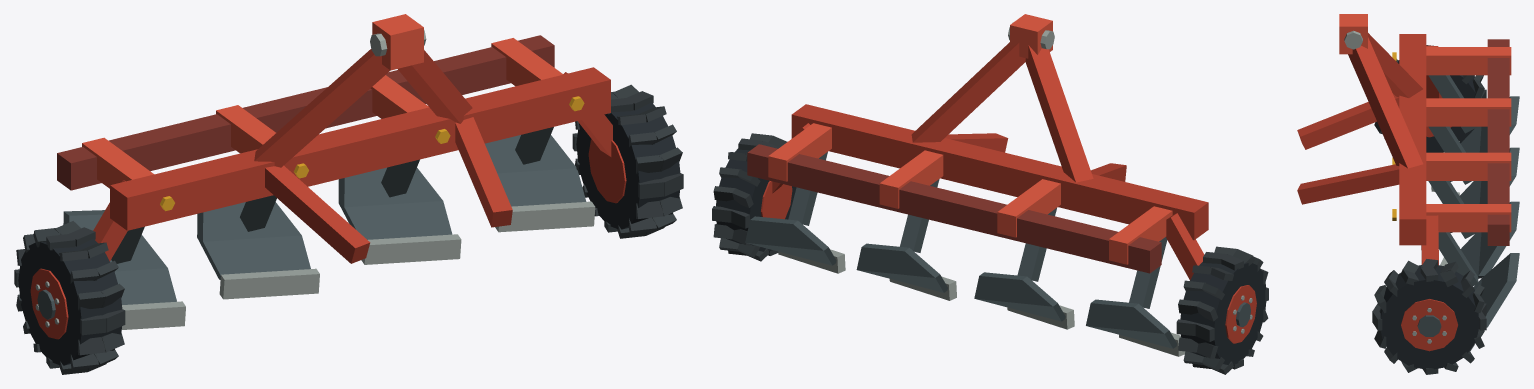
The model's file is plow.glb.
The picture shows the model from 3 angles, left to right: view 1: azimuth 30°, elevation 25°; view 2: azimuth 150°, elevation 25°; view 3: azimuth 270°, elevation 25°; orthographic projection. The views are drawn at different scales.
Visible parts, largest first — view 1: body__red.003, body__metal.005, body__red_dark.003, body__steel.004, body__red2.004, depth_wheel_left__tread, depth_wheel_left__rubber, depth_wheel_right__tread, depth_wheel_right__rubber, depth_wheel_right__red, depth_wheel_left__red, body__yellow.003; view 2: body__red.003, body__metal.005, body__red_dark.003, body__red2.004, depth_wheel_left__tread, depth_wheel_left__rubber, depth_wheel_right__tread, body__steel.004, depth_wheel_right__rubber, depth_wheel_left__red, depth_wheel_right__red; view 3: body__red.003, body__red2.004, body__metal.005, depth_wheel_right__rubber, body__red_dark.003, depth_wheel_right__tread, depth_wheel_right__red, depth_wheel_left__rubber, depth_wheel_right__metal, depth_wheel_left__tread, body__steel.004.
Boxes of the visible parts, box(x1,y1,x2,y2) form: body__red.003: box(93, 49, 612, 263); body__metal.005: box(63, 127, 586, 304); body__red_dark.003: box(57, 35, 554, 190); body__steel.004: box(121, 24, 595, 329); body__red2.004: box(82, 14, 563, 188); depth_wheel_left__tread: box(14, 221, 125, 374); depth_wheel_left__rubber: box(18, 238, 122, 365); depth_wheel_right__tread: box(572, 84, 683, 238); depth_wheel_right__rubber: box(576, 102, 680, 229); depth_wheel_right__red: box(588, 139, 626, 203); depth_wheel_left__red: box(30, 268, 68, 339); body__yellow.003: box(160, 96, 584, 211); body__red.003: box(772, 42, 1208, 279); body__metal.005: box(745, 152, 1176, 348); body__red_dark.003: box(747, 144, 1161, 273); body__red2.004: box(768, 14, 1172, 264); depth_wheel_left__tread: box(1176, 246, 1268, 374); depth_wheel_left__rubber: box(1180, 262, 1266, 364); depth_wheel_right__tread: box(712, 133, 787, 261); body__steel.004: box(778, 22, 1185, 356); depth_wheel_right__rubber: box(716, 148, 796, 251); depth_wheel_left__red: box(1225, 285, 1256, 343); depth_wheel_right__red: box(761, 181, 792, 219); body__red.003: box(1297, 33, 1439, 265); body__red2.004: box(1339, 14, 1511, 232); body__metal.005: box(1428, 75, 1519, 327); depth_wheel_right__rubber: box(1380, 265, 1479, 369); body__red_dark.003: box(1487, 39, 1509, 245); depth_wheel_right__tread: box(1372, 259, 1486, 374); depth_wheel_right__red: box(1401, 299, 1457, 351); depth_wheel_left__rubber: box(1397, 60, 1475, 152); depth_wheel_right__metal: box(1417, 315, 1441, 336); depth_wheel_left__tread: box(1374, 45, 1486, 141); body__steel.004: box(1344, 30, 1459, 265).
Bounding box in the file's own units: 3.28 × 1.56 × 1.32.
